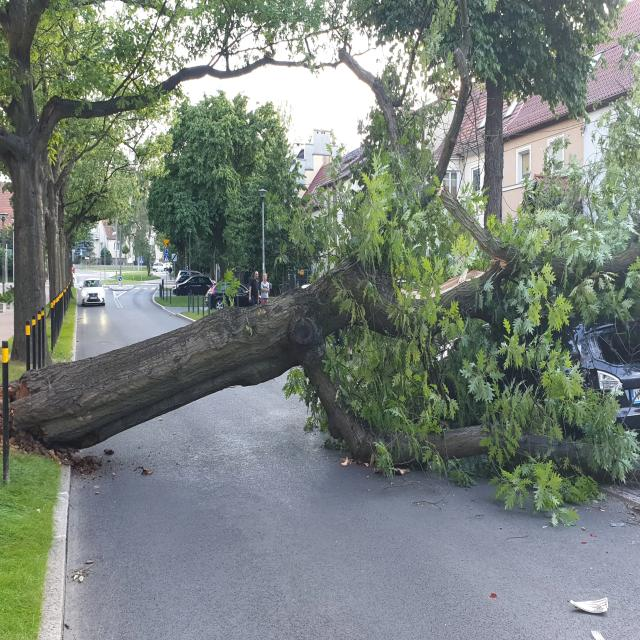fallen_tree: (14, 276, 314, 454)
